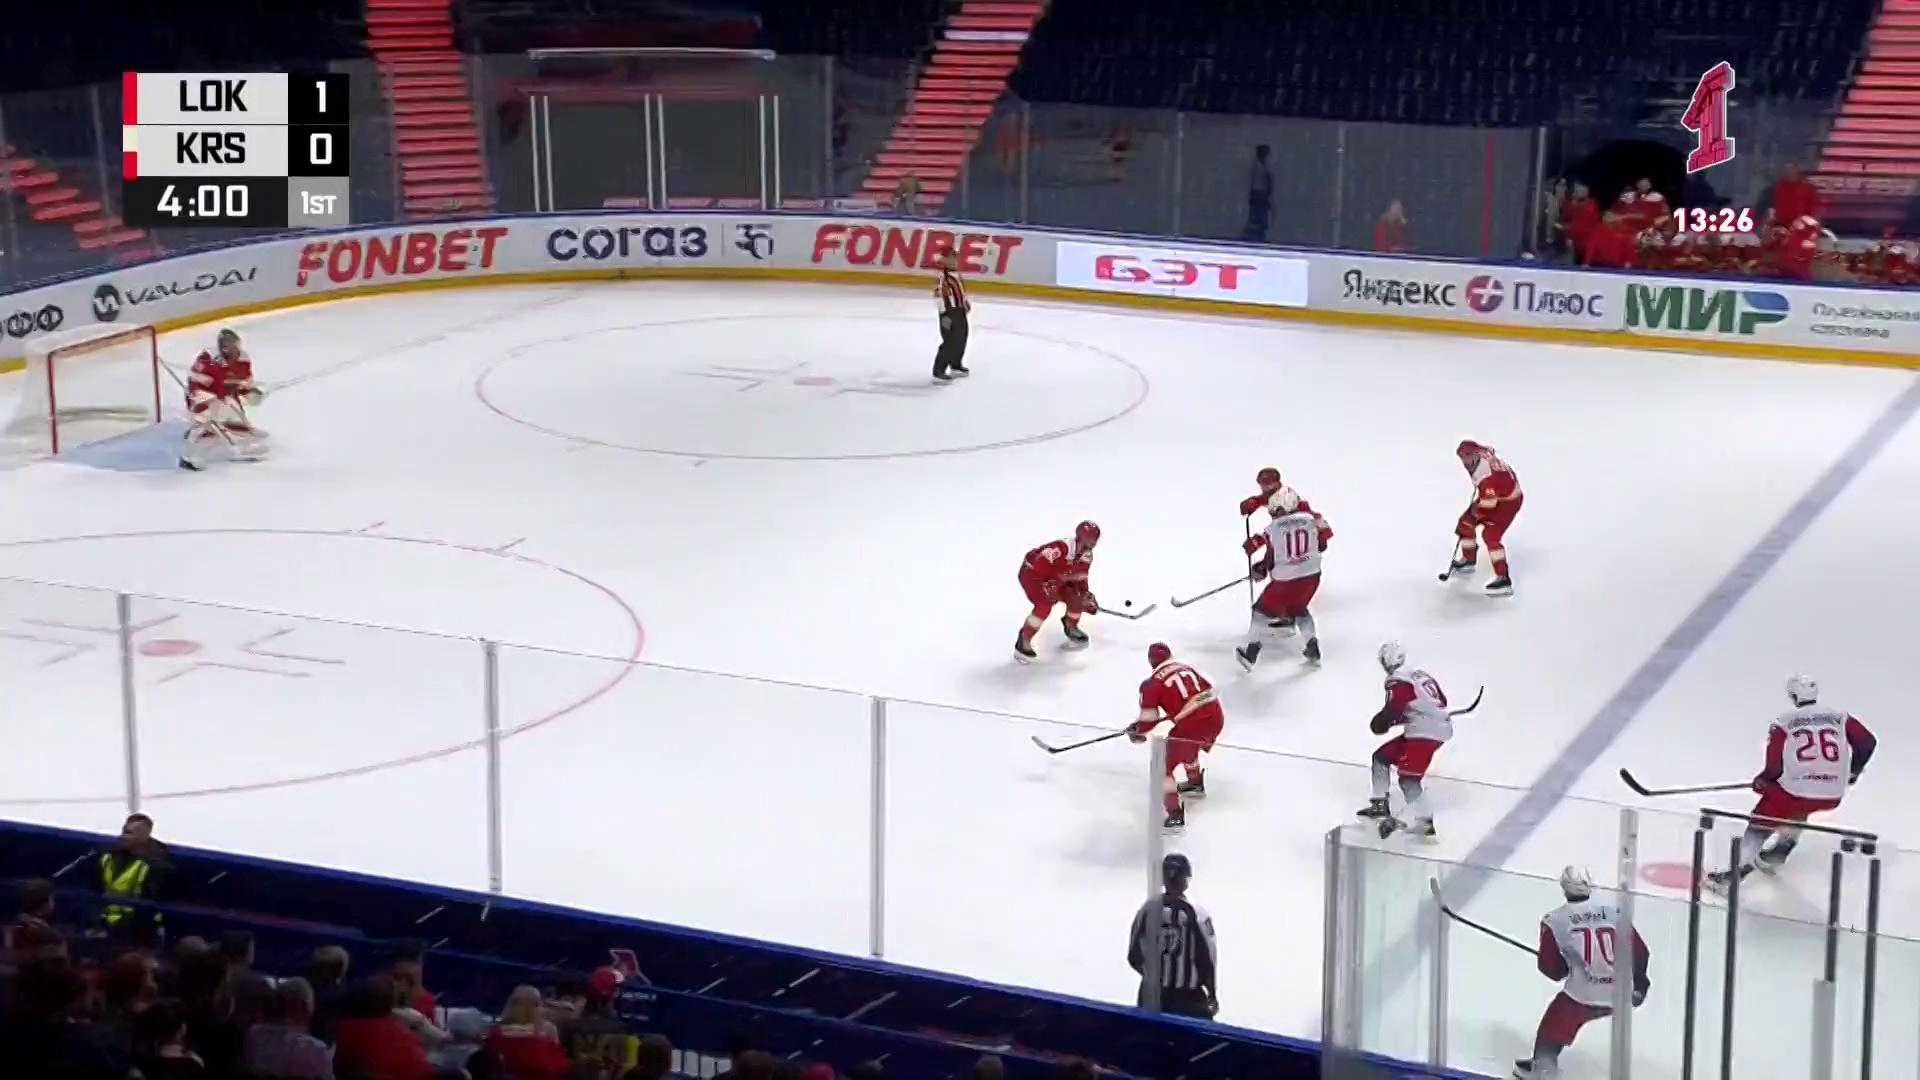ball: (1124, 600, 1133, 607)
